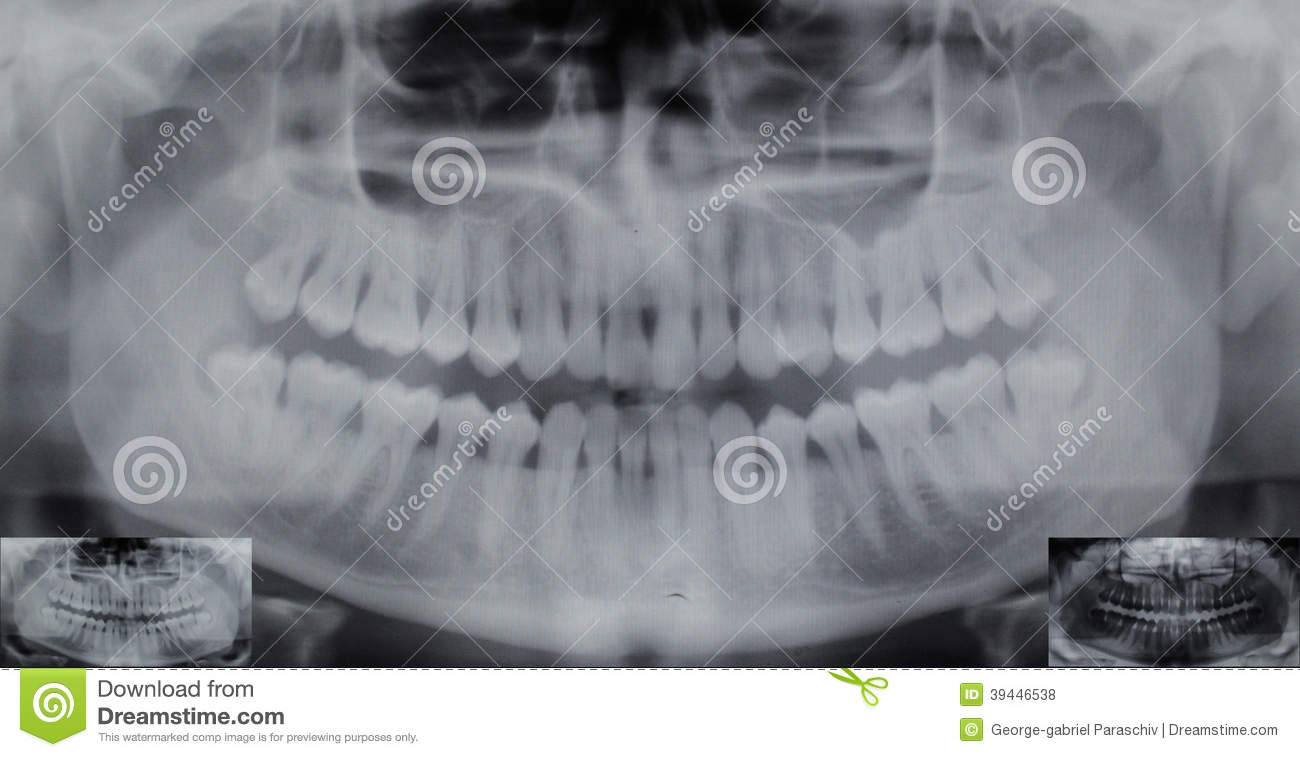canine: (512, 229, 575, 383), (532, 391, 591, 528), (739, 229, 790, 382), (709, 397, 762, 522)
incisor: (598, 230, 653, 394), (649, 231, 704, 394), (699, 228, 740, 398), (566, 235, 611, 385), (585, 397, 623, 530), (680, 398, 716, 531), (648, 399, 682, 528), (620, 397, 649, 532)
molar: (923, 343, 1028, 500), (347, 360, 447, 520), (852, 378, 959, 521), (977, 204, 1074, 340), (227, 211, 324, 336), (280, 343, 362, 487), (352, 211, 426, 366), (297, 219, 378, 351), (876, 222, 950, 366), (209, 339, 293, 460), (925, 217, 1005, 344), (1000, 349, 1084, 443)
premolar: (419, 374, 503, 537), (803, 388, 875, 544), (466, 213, 528, 383), (749, 401, 821, 547), (485, 383, 543, 541), (771, 233, 827, 385), (421, 214, 475, 367), (823, 251, 887, 371)
